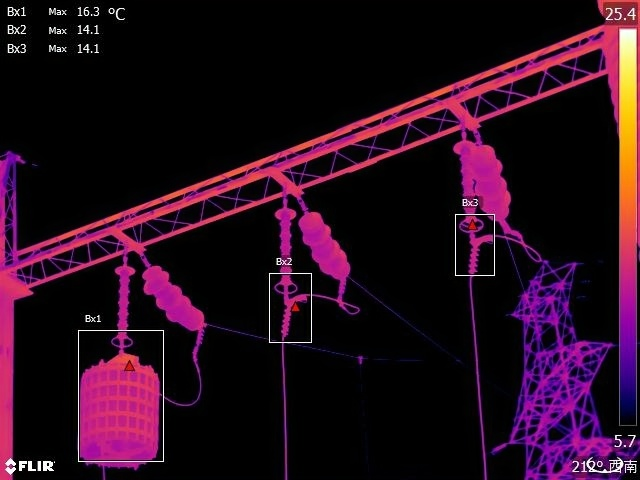clamp: (464, 231, 495, 262), (191, 318, 213, 354), (275, 296, 300, 325)
insulator: (298, 202, 360, 278), (150, 260, 206, 330), (475, 142, 517, 223), (455, 137, 484, 238), (109, 257, 141, 348), (273, 197, 296, 298)
wave trap: (70, 351, 171, 468)
